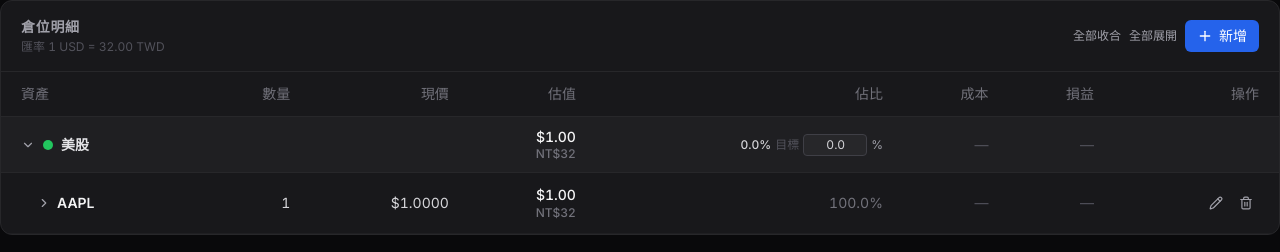
it: PositionTable › 全部收合 hides all position rows
This screenshot has width=1280, height=252.
Expected: the text "AAPL" is shown, left=57, top=193, right=94, bottom=213
Click the button "全部收合": click(1097, 36) left=1073, top=28, right=1121, bottom=44
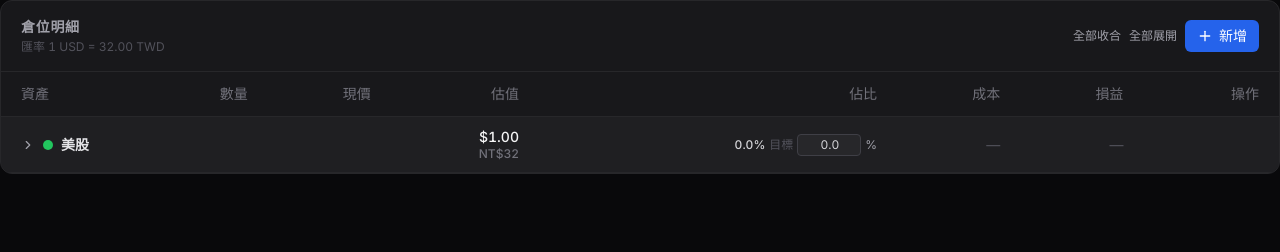
Now the text "AAPL" is gone
